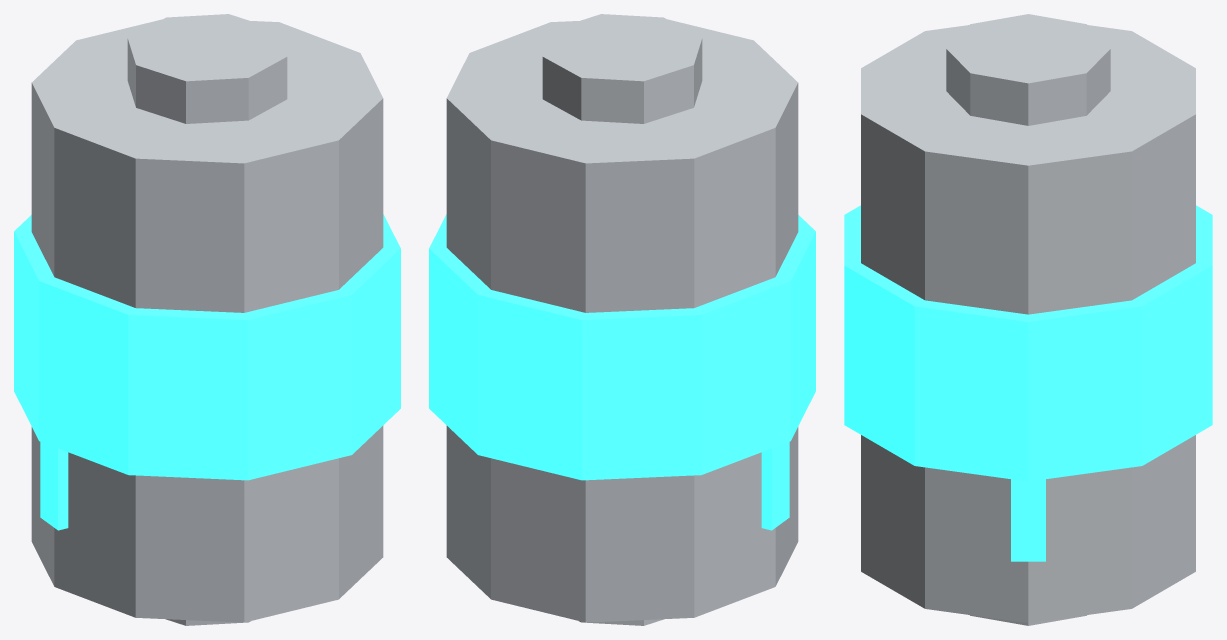
File: nitro.glb
The picture shows the model from 3 angles, left to right: view 1: azimuth 30°, elevation 25°; view 2: azimuth 150°, elevation 25°; view 3: azimuth 270°, elevation 25°; orthographic projection.
Parts seen in each view (by area): view 1: Nitro; view 2: Nitro; view 3: Nitro.
Part boxes in pixels (<box>): Nitro: <box>14,14,400,625</box>; Nitro: <box>429,14,815,625</box>; Nitro: <box>844,14,1212,625</box>.
Bounding box in the file's own units: 0.66 × 1.02 × 0.6277.
